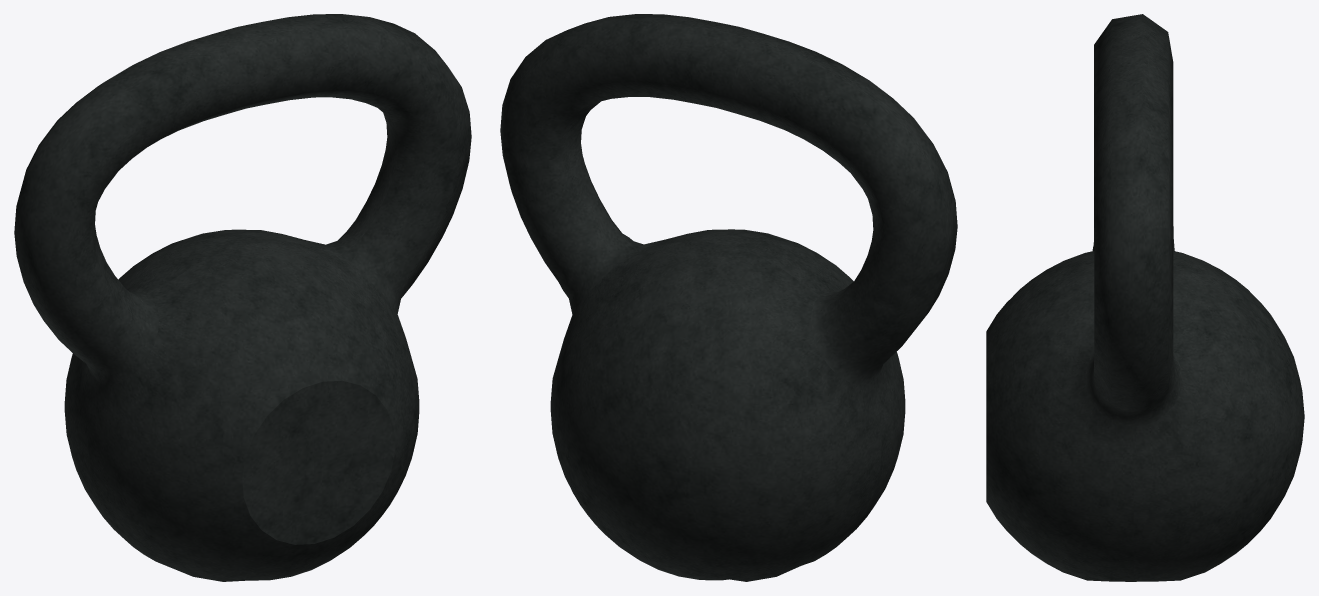
Rendered from kettlebell.glb.
3 renders of one model, left to right at view 1: azimuth 30°, elevation 25°; view 2: azimuth 150°, elevation 25°; view 3: azimuth 270°, elevation 25°, orthographic. The views are drawn at different scales.
Size of the model in its own units: 0.2145 by 0.2349 by 0.1378.
Materials: 1 (1 with a texture image).
